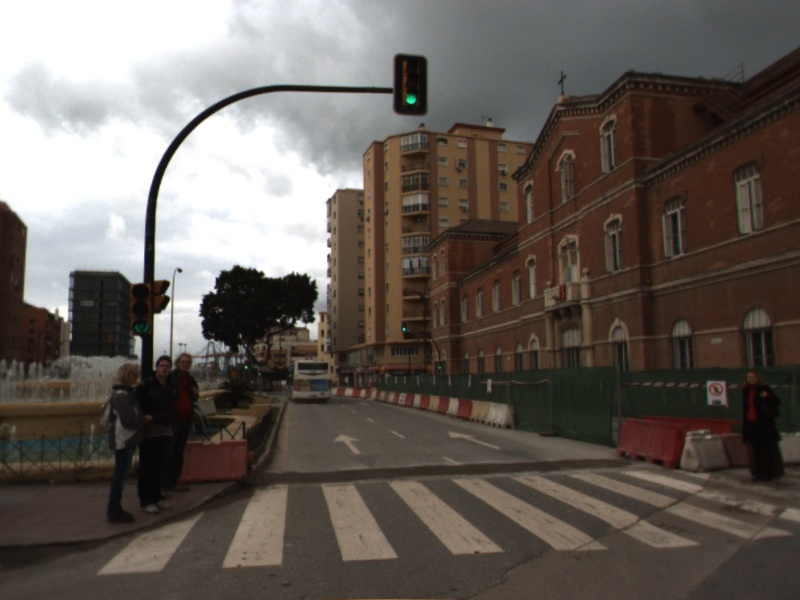STRAIGHT: (445, 428, 505, 452), (331, 431, 364, 456)
